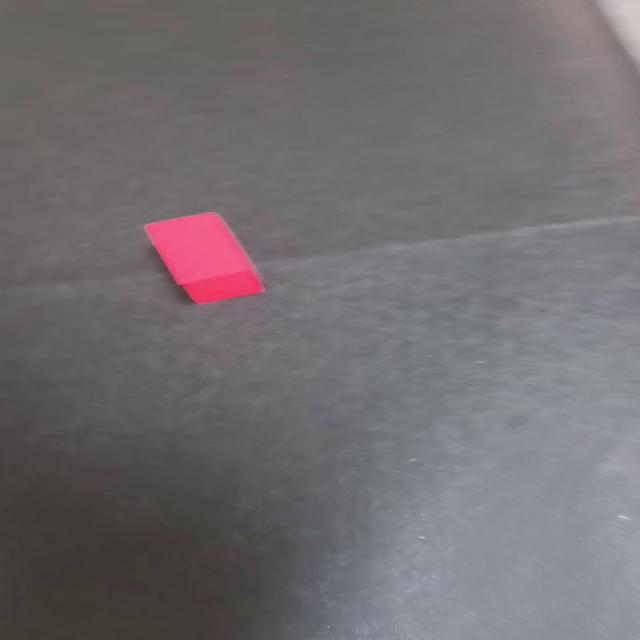red block: (143, 211, 265, 305)
